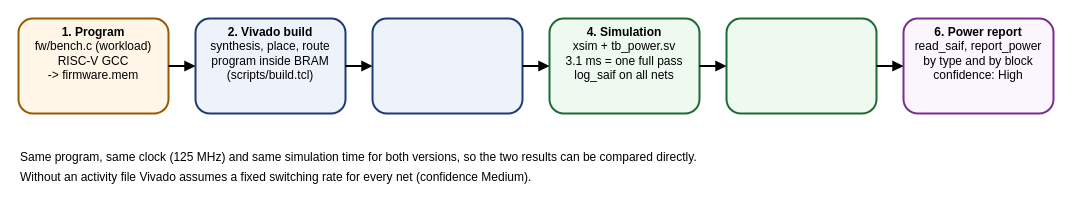
This 1071x201 diagram has some shape labels left out. Here are the shapes that lost their labels. From the top down, the box of each, then its label:
(371, 17, 523, 114): 3. Netlist write_verilog -mode funcsim of the routed design
(725, 17, 877, 114): 5. Activity file activity.saif how often every net switches
